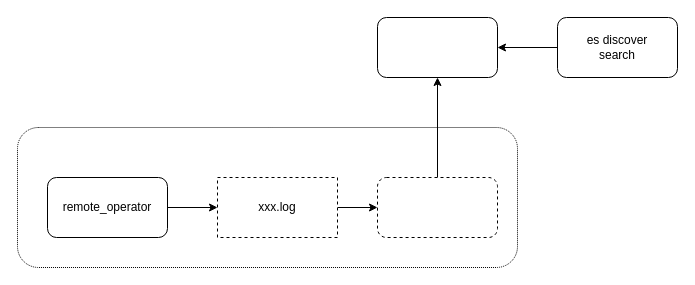
This 695x285 diagram has some shape labels left out. Here are the shapes that lost their labels. From the top down, the centre of each, then its label:
At pixel 437 47: "es server".
At pixel 437 207: "filebeat agent".
